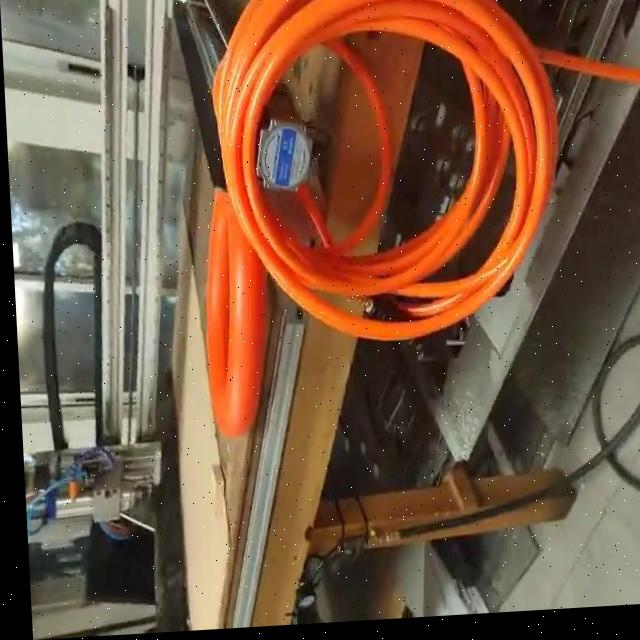note: (196, 189, 275, 448)
